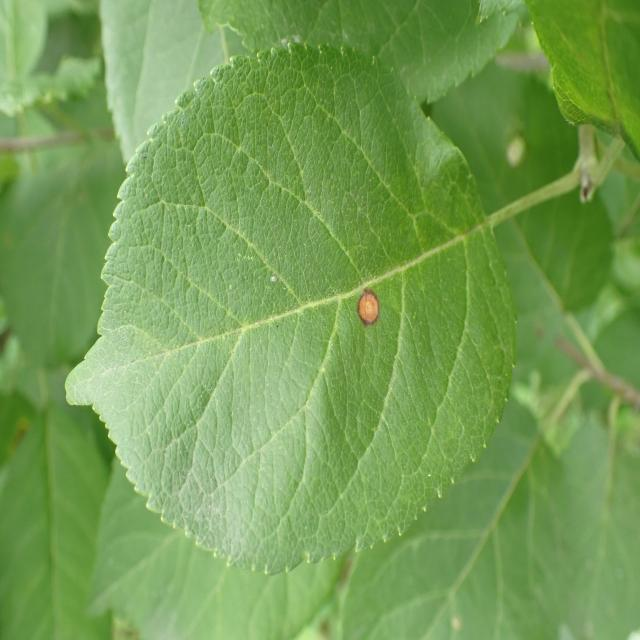Black Rot: (354, 254, 390, 372)
